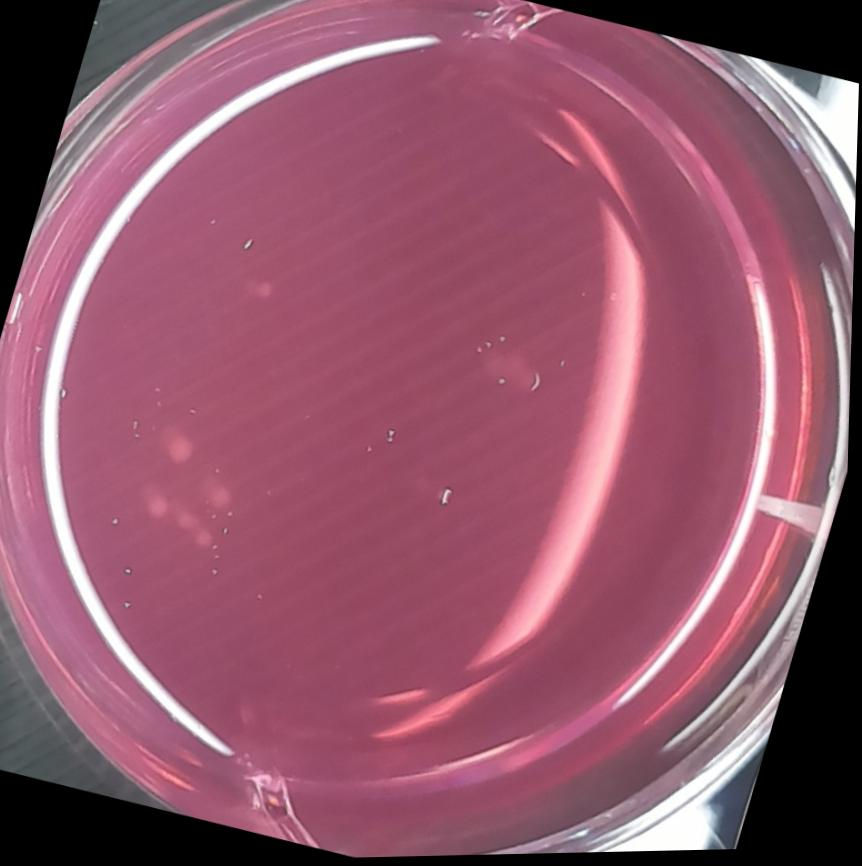staphylo-: (473, 339, 558, 404), (161, 423, 208, 471), (202, 477, 246, 518), (140, 489, 177, 526), (249, 274, 283, 306), (194, 524, 224, 553), (177, 506, 206, 534)
